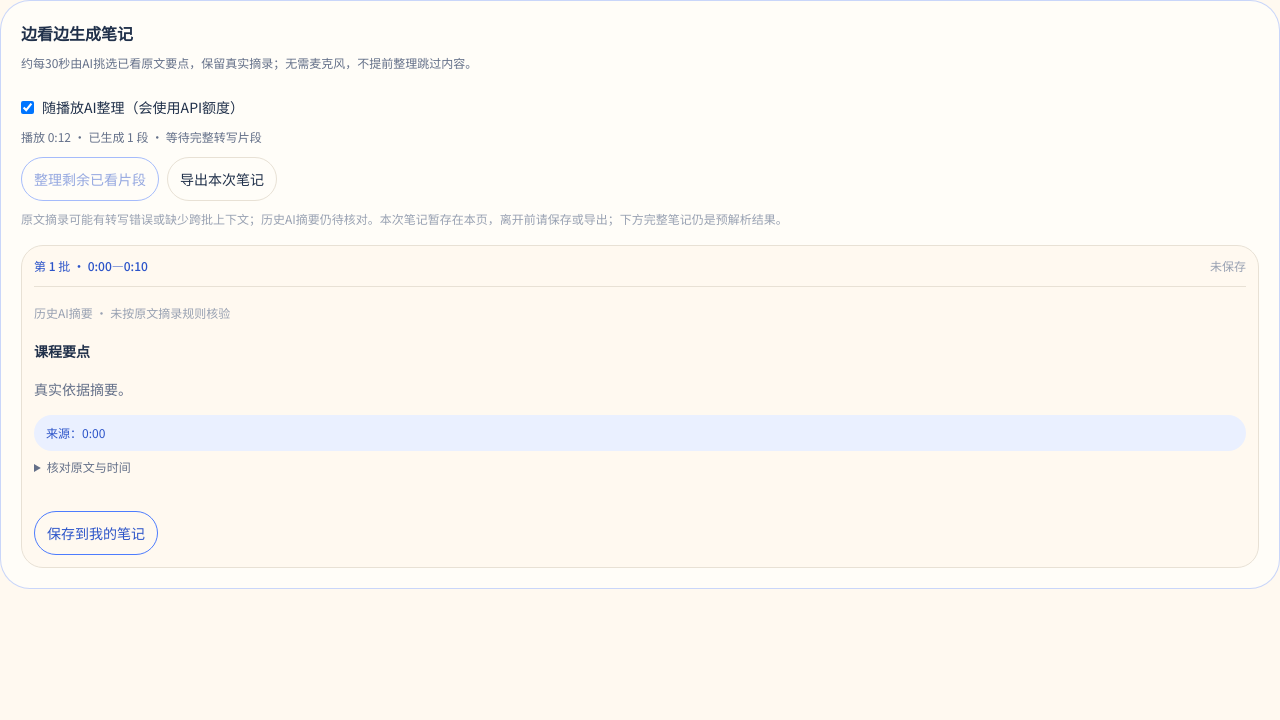
video watched notes › formats headings but persists the original Markdown and real time
Expected: the heading "课程要点" is shown, [34,341,90,361]
Expected: the text "第 1 批 · 0:00—0:10" is shown, [34,258,148,274]
What coordinates should you click on to do the following:
click the button "保存到我的笔记"
I would click on:
 (96, 533)
Its box is [34,511,158,555].
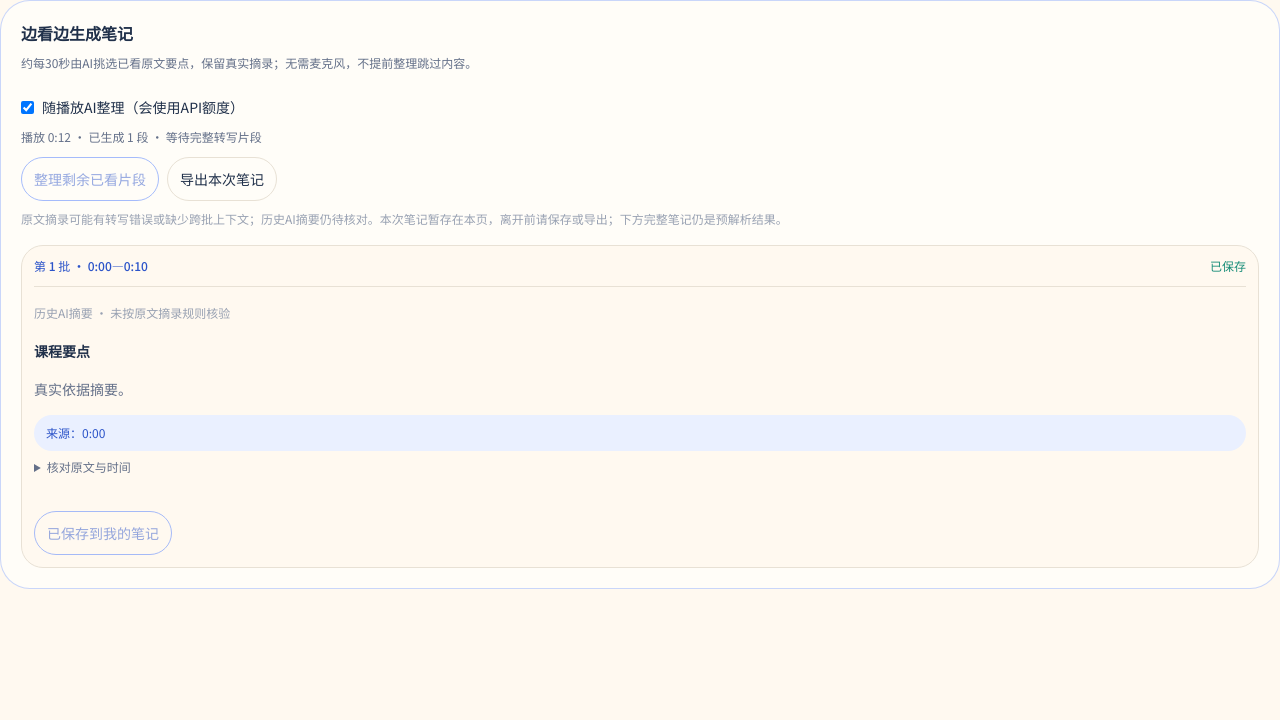
Result: the button "已保存到我的笔记" is shown at [34,511,172,555]
Result: the text "已保存" is shown at [1210,258,1246,274]
